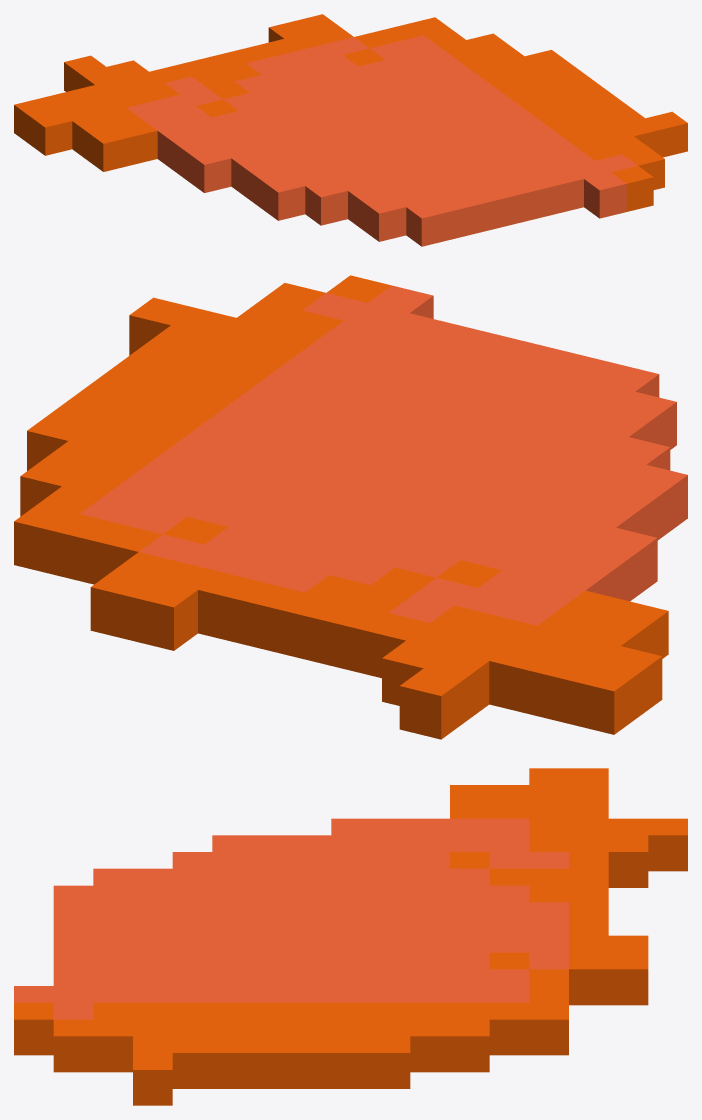
The model's file is map_v1-5.obj.
The picture shows the model from 3 angles, top to bottom: view 1: azimuth 30°, elevation 25°; view 2: azimuth 150°, elevation 25°; view 3: azimuth 270°, elevation 25°; orthographic projection. The views are drawn at different scales.
Size of the model in its own units: 1.8 by 0.1 by 1.7.
1 material, 1 textured.
